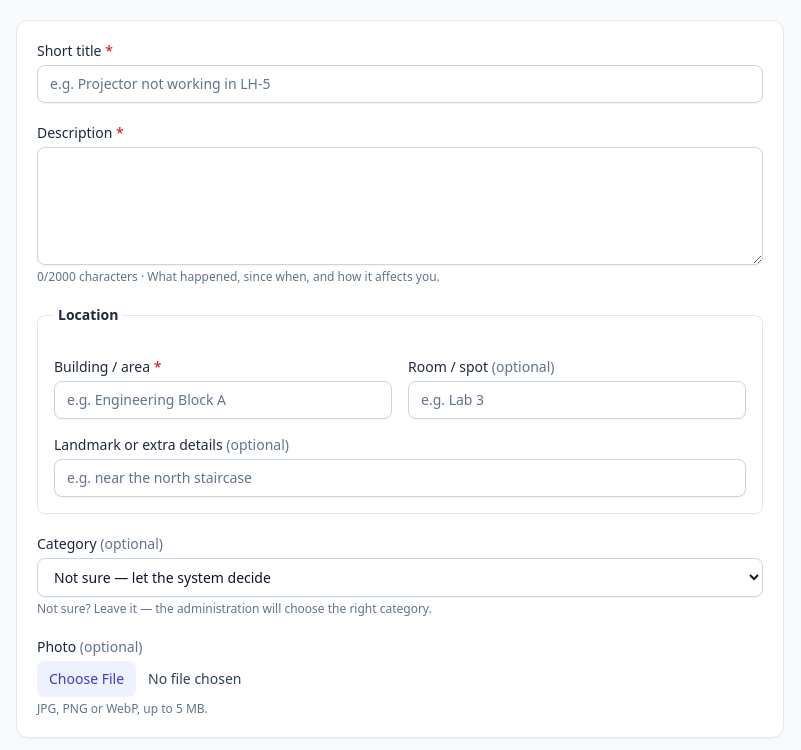
NewComplaintPage › submits a valid complaint and shows the new ticket ID
Type "Fan not working" into the field labelled "Short title *" at (400, 84), box top-left (37, 65), bottom-right (763, 103)
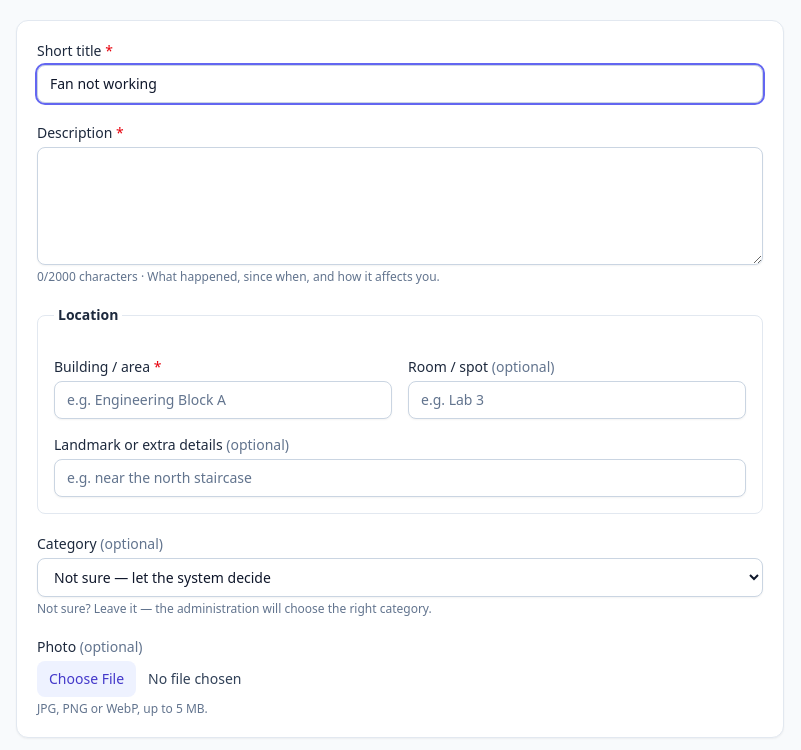
Type "The ceiling fan in room 101 is not working at all." into the text box labelled "Description *" at (400, 206), box top-left (37, 147), bottom-right (763, 265)
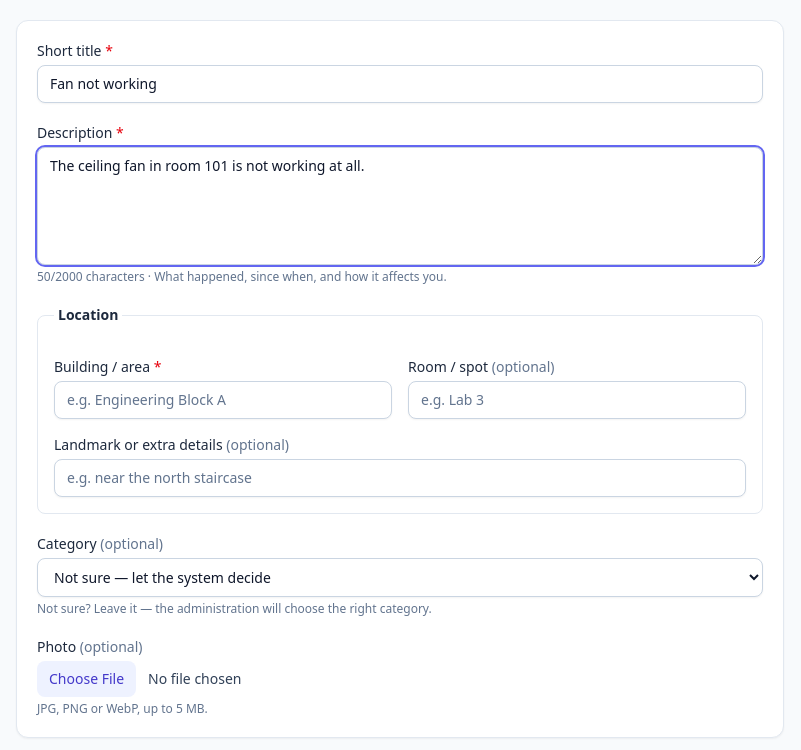
Type "Main Building" into the field labelled "Building / area *" at (223, 400), box top-left (54, 381), bottom-right (392, 419)
(page scrolled)
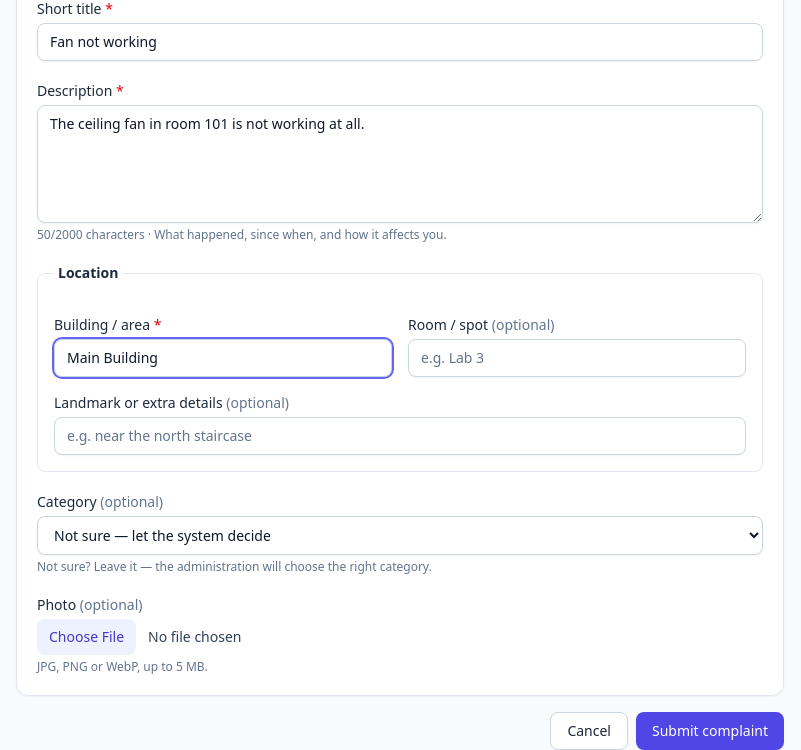
Click the button "Submit complaint" at (710, 731), box top-left (636, 712), bottom-right (784, 749)
(page scrolled)
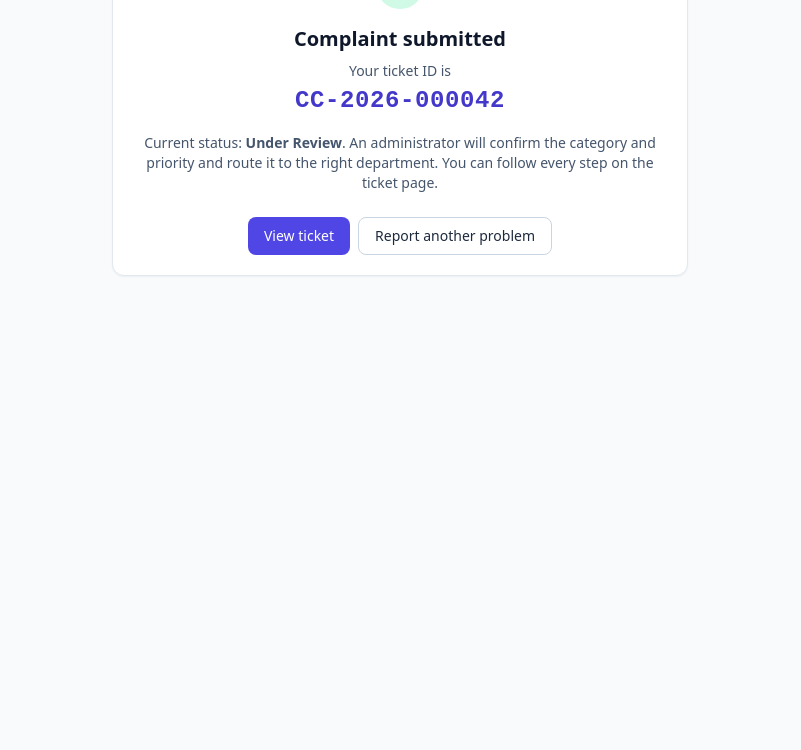
Expected: the text "CC-2026-000042" is shown, top-left (295, 87), bottom-right (505, 114)
